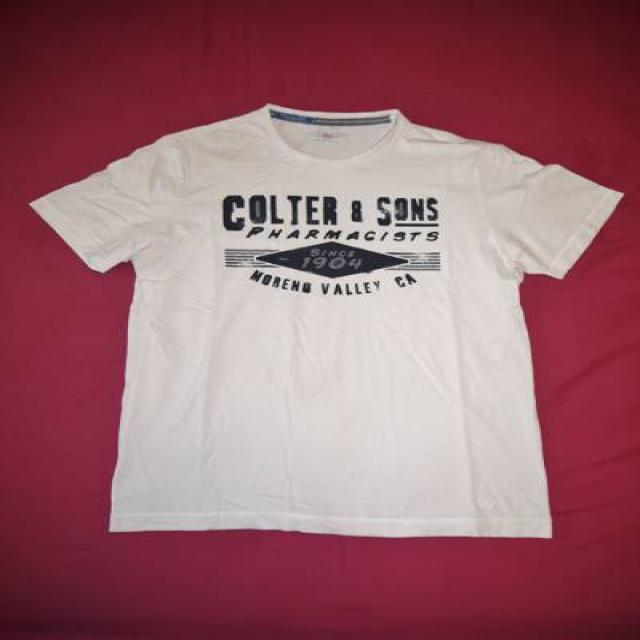shirt: (25, 105, 627, 536)
